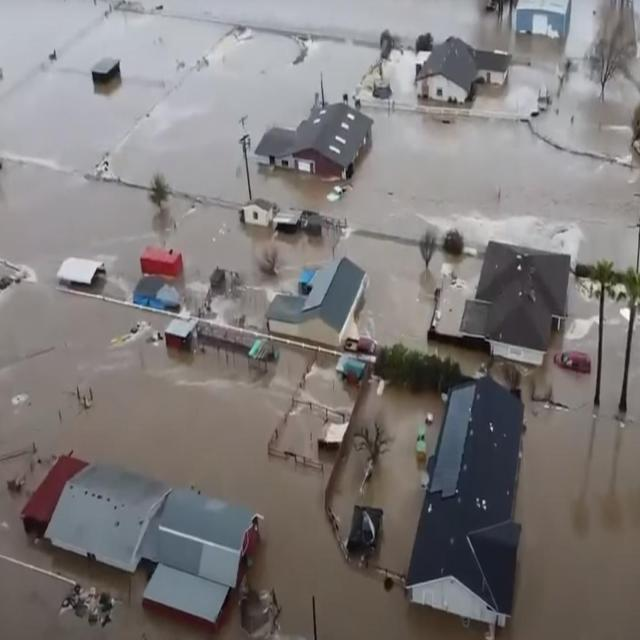flood: (0, 0, 640, 638), (498, 274, 640, 638), (511, 300, 640, 637), (332, 380, 445, 574), (533, 0, 640, 161), (270, 361, 358, 461), (473, 63, 555, 116), (211, 284, 275, 331), (384, 47, 417, 102)
house: (20, 454, 264, 638), (406, 369, 534, 632), (424, 224, 572, 366), (259, 94, 373, 184), (272, 255, 368, 352), (417, 33, 512, 109), (515, 0, 571, 45), (242, 197, 274, 228)
